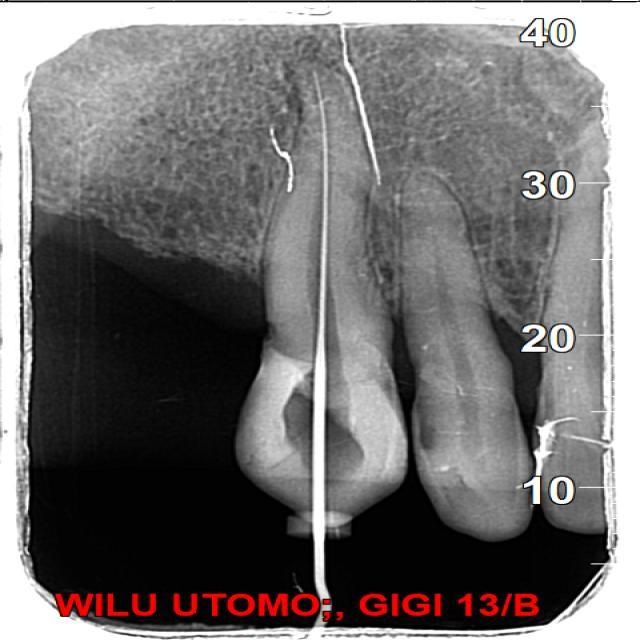individual-tooth-8tto: (228, 59, 403, 522), (398, 175, 528, 546)
